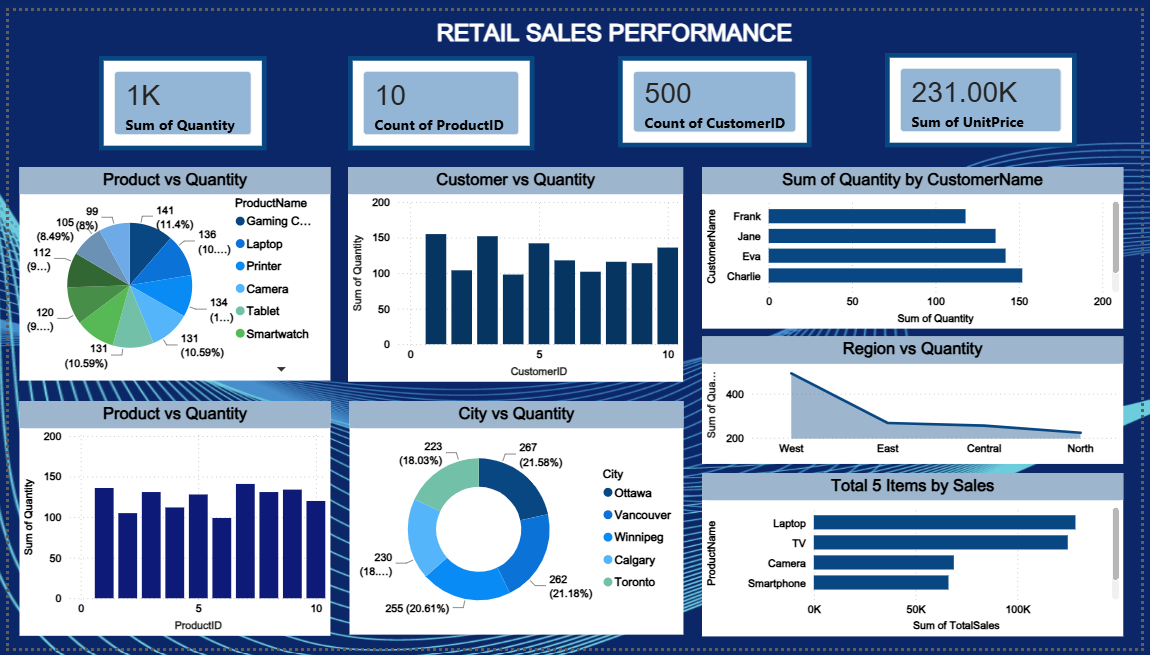

The dashboard page shown, as its layout file describes it:
{"tool":"powerbi","page":{"name":"Quantity Wise Analysis","canvas":[1280,720],"ordinal":0},"visuals":[{"type":"columnChart","title":"Customer vs Quantity","fields":{"Category":["Sales_2025.CustomerID"],"Y":["Sum(Sales_2025.Quantity)"]},"box":[383.8,176.5,378.9,242.9],"z":0},{"type":"clusteredColumnChart","title":"Product vs Quantity","fields":{"Category":["Products.ProductID"],"Y":["Sum(Sales_2025.Quantity)"]},"box":[11.3,440.4,351.4,265.6],"z":1000},{"type":"pieChart","title":"Product vs Quantity","fields":{"Category":["Products.ProductName"],"Y":["Sum(Sales_2025.Quantity)"]},"box":[11.3,176.5,351.4,241.3],"z":2000},{"type":"donutChart","title":"City vs Quantity","fields":{"Y":["Sum(Sales_2025.Quantity)"],"Category":["Stores.City"]},"box":[385.4,440.4,377.3,263.9],"z":3000},{"type":"textbox","box":[462.5,0,442.9,50],"z":4000},{"type":"cardVisual","fields":{"Data":["Sum(Sales_2025.Quantity)"]},"box":[102,50.2,189.4,106.9],"z":5000},{"type":"cardVisual","fields":{"Data":["Sum(Sales_2025.UnitPrice)"]},"box":[989.3,47,217,106.9],"z":6000},{"type":"barChart","fields":{"Category":["Customers.CustomerName"],"Y":["Sum(Sales_2025.Quantity)"]},"box":[783.7,176.5,476.1,183],"z":7000},{"type":"areaChart","title":"Region vs Quantity","fields":{"Y":["Sum(Sales_2025.Quantity)"],"Category":["Stores.Region"]},"box":[783.7,367.6,476.1,144.1],"z":8000},{"type":"cardVisual","fields":{"Data":["CountNonNull(Products.ProductID)"]},"box":[383.8,50.2,210.5,106.9],"z":9000},{"type":"cardVisual","fields":{"Data":["CountNonNull(Sales_2025.CustomerID)"]},"box":[688.2,50.2,218.6,103.6],"z":10000},{"type":"barChart","title":"Total 5 Items by Sales","fields":{"Category":["Products.ProductName"],"Y":["Sum(Sales_2025.TotalSales)"]},"box":[783.7,521.4,476.1,184.6],"z":11000}]}

Visuals, with their boxes in screenshot pixels (x1, y1, x2, y2), scaled from the page's 1280x720 canvas onto the 1150x655 screenshot:
"Customer vs Quantity" columnChart: left=345, top=161, right=685, bottom=382
"Product vs Quantity" clusteredColumnChart: left=10, top=401, right=326, bottom=642
"Product vs Quantity" pieChart: left=10, top=161, right=326, bottom=380
"City vs Quantity" donutChart: left=346, top=401, right=685, bottom=641
textbox: left=416, top=0, right=813, bottom=45
cardVisual - Sum(Sales_2025.Quantity): left=92, top=46, right=262, bottom=143
cardVisual - Sum(Sales_2025.UnitPrice): left=889, top=43, right=1084, bottom=140
barChart - Customers.CustomerName x Sum(Sales_2025.Quantity): left=704, top=161, right=1132, bottom=327
"Region vs Quantity" areaChart: left=704, top=334, right=1132, bottom=466
cardVisual - CountNonNull(Products.ProductID): left=345, top=46, right=534, bottom=143
cardVisual - CountNonNull(Sales_2025.CustomerID): left=618, top=46, right=815, bottom=140
"Total 5 Items by Sales" barChart: left=704, top=474, right=1132, bottom=642
